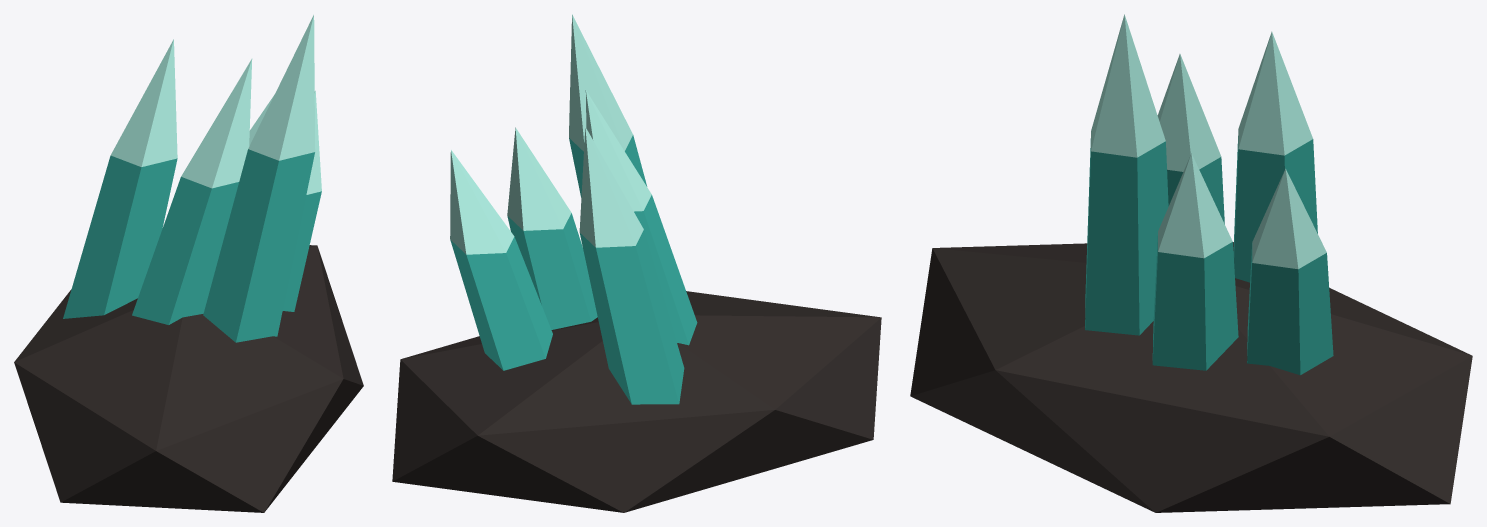
The model's file is AbyssCrystal_B.fbx.
The picture shows the model from 3 angles, left to right: view 1: azimuth 30°, elevation 25°; view 2: azimuth 150°, elevation 25°; view 3: azimuth 270°, elevation 25°; orthographic projection. The views are drawn at different scales.
Visible parts, largest first — view 1: AbyssCrystal_B; view 2: AbyssCrystal_B; view 3: AbyssCrystal_B.
Boxes of the visible parts, x1=… form: AbyssCrystal_B: x1=14, y1=15, x2=363, y2=512; AbyssCrystal_B: x1=392, y1=14, x2=881, y2=512; AbyssCrystal_B: x1=910, y1=14, x2=1472, y2=512.
Bounding box in the file's own units: 0.9774 × 1.11 × 1.09.
1 material, 1 textured.
